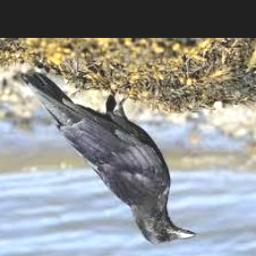Crow: (20, 71, 195, 245)
